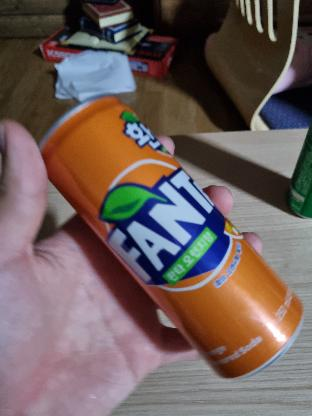Can: (40, 98, 302, 379)
